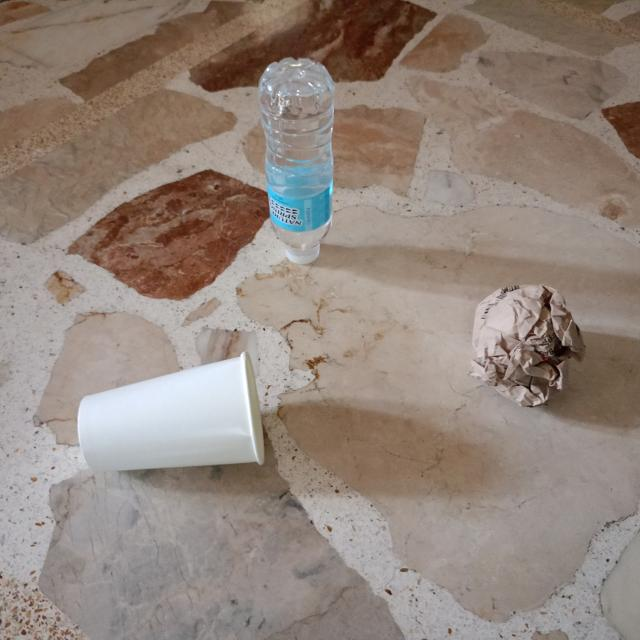Anorganik: (248, 51, 348, 278)
Organik: (59, 341, 293, 486), (450, 268, 598, 430)
